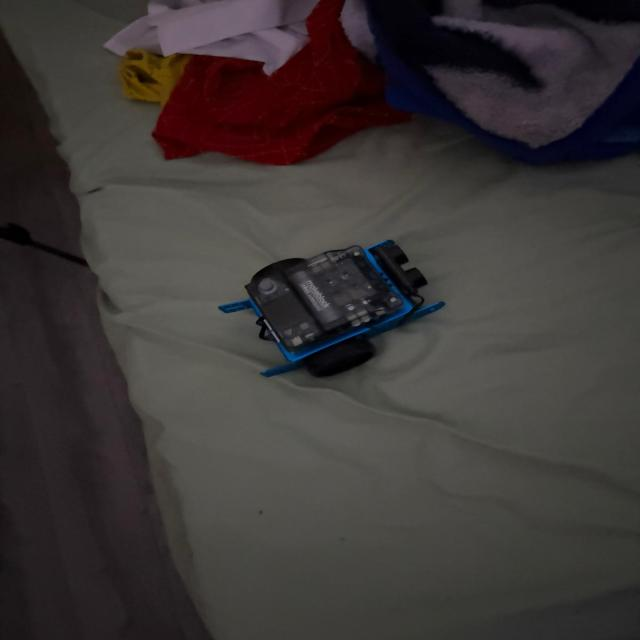mbot-detection: (206, 234, 453, 384)
